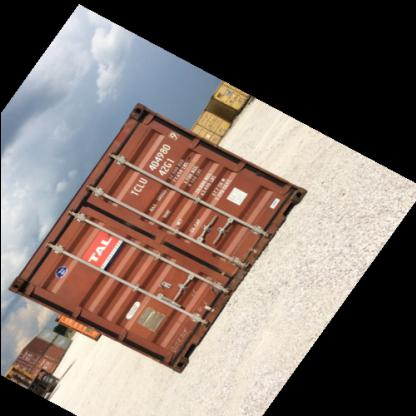Damage: (202, 256, 238, 289)
